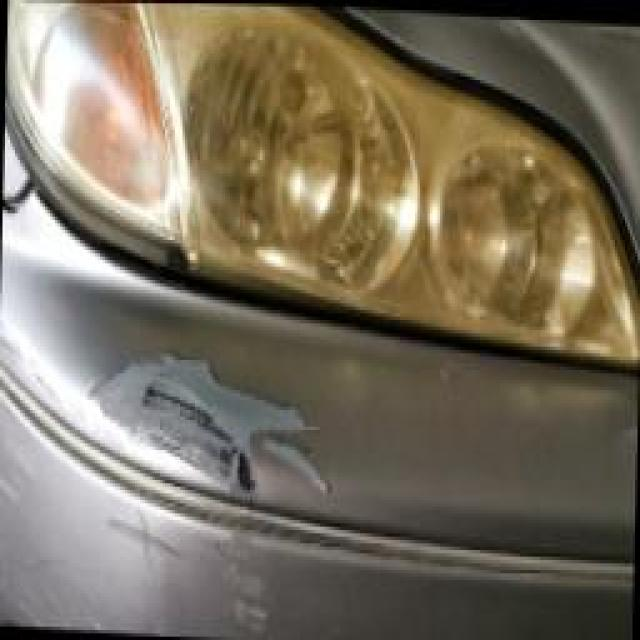Bumper: (0, 199, 356, 640)
